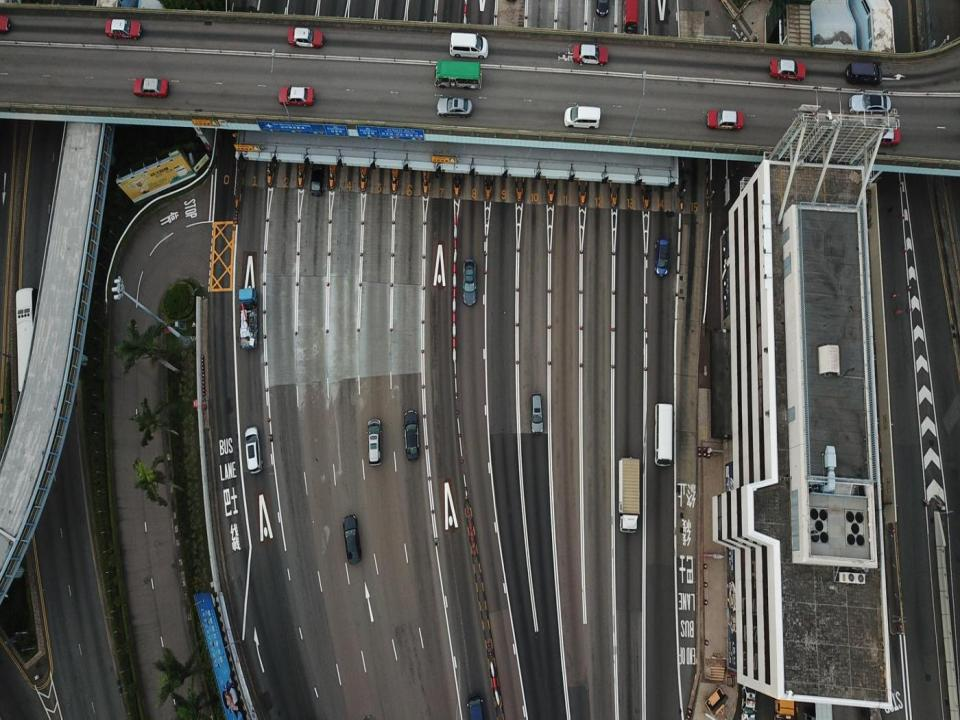bus: (14, 287, 48, 396), (434, 61, 482, 90), (655, 403, 673, 466)
car: (857, 121, 900, 146), (849, 92, 891, 116), (342, 515, 361, 564), (436, 95, 473, 119), (403, 410, 420, 461), (706, 108, 744, 130), (769, 60, 806, 82), (461, 260, 478, 306), (573, 44, 608, 66), (278, 85, 314, 106), (106, 19, 141, 39), (133, 78, 168, 98), (288, 28, 323, 48), (740, 682, 756, 719), (654, 239, 668, 277), (310, 162, 324, 196)
truck: (618, 457, 640, 533), (238, 286, 258, 350)
van: (449, 32, 488, 58), (564, 104, 600, 129), (244, 426, 263, 473), (366, 419, 383, 466), (846, 63, 882, 84), (530, 392, 545, 434), (467, 695, 484, 719)
